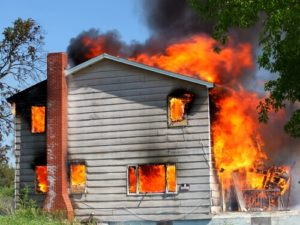fire: (210, 91, 288, 192), (146, 31, 256, 79), (84, 33, 145, 65), (123, 163, 177, 193), (69, 163, 90, 192), (34, 166, 51, 196), (31, 103, 46, 134)
smoke: (141, 1, 214, 31)
